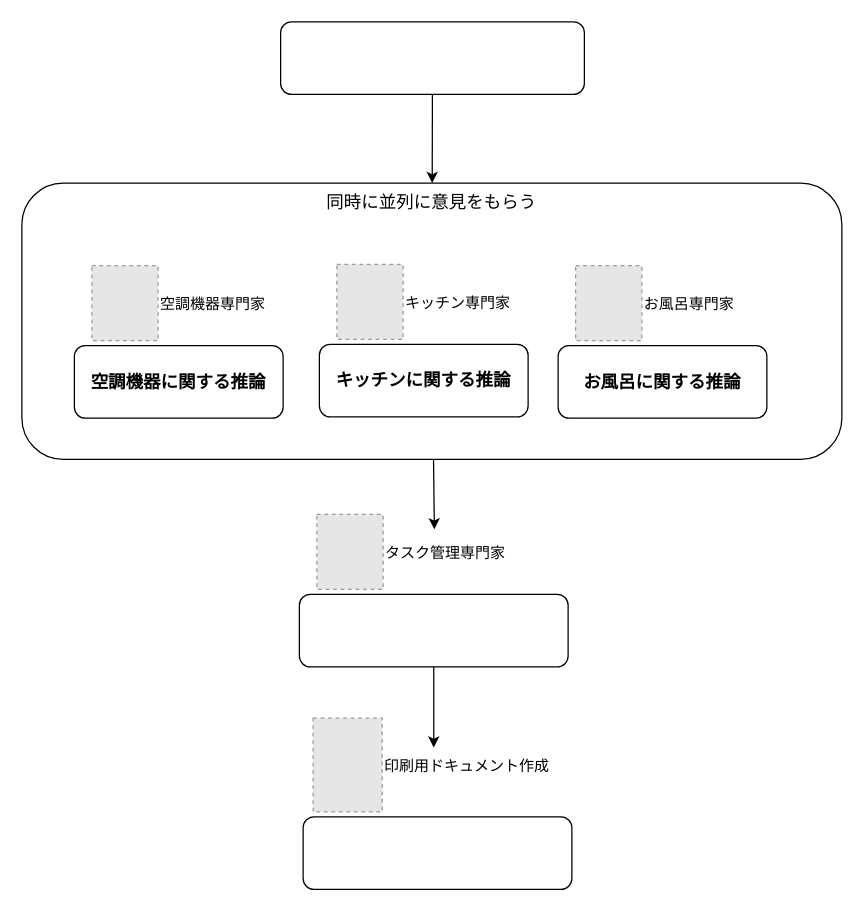
Image size: 864x911. Some labels were removed from this diagram. Grey dashed boxes stand in for pictures. The box of each missing label's shape, as (x1, y1, x2, y2) in pixels:
利用者が要望を指示 「年末の大掃除何したらいい？」: (279, 21, 584, 94)
印刷用のタスクリストを作成しダウンロードできる場所に配置: (302, 816, 572, 889)
既存のタスクを考慮した タスクマネジメントとタスク提案: (298, 593, 568, 667)
